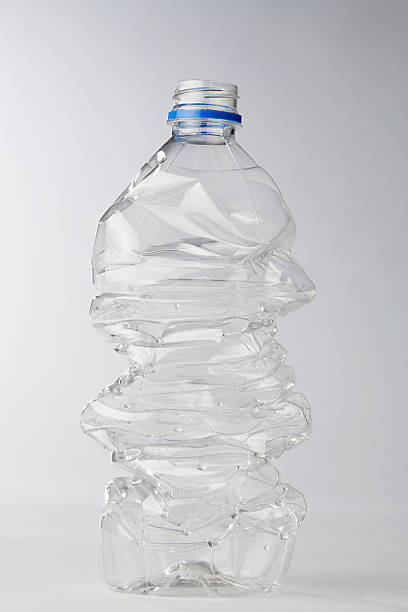HDPE Ring: (166, 108, 245, 123)
PET Bottle: (78, 78, 319, 602)
